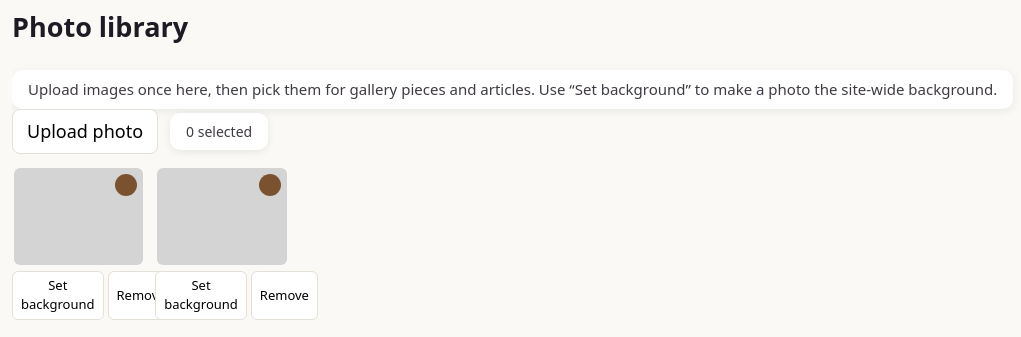
PhotosPanel › sets a photo as the site-wide background
The image size is (1021, 337).
What coordinates should you click on to do the following:
click the 1st button "Set background"
I would click on:
 (58, 295)
Its box is [12,271,104,320].
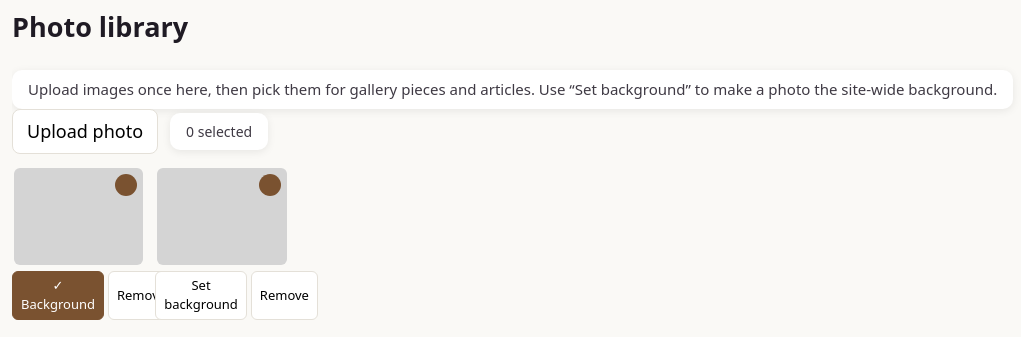
Expected: the button "✓ Background" is shown, [12,271,104,320]
